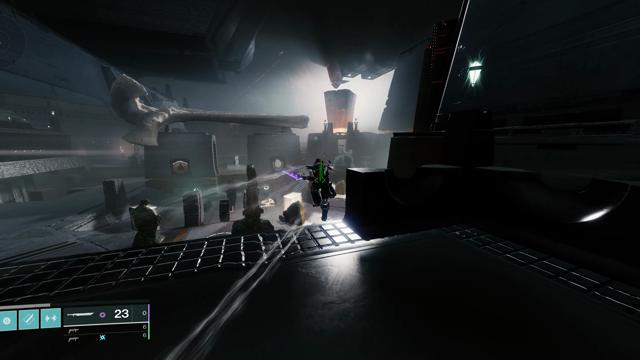commune: (314, 136, 318, 142)
pyramid: (173, 161, 189, 173)
traveler: (272, 159, 284, 171)
